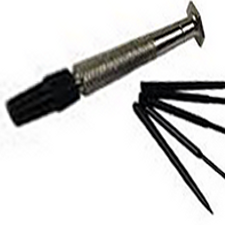screwdriver: (16, 11, 218, 111)
